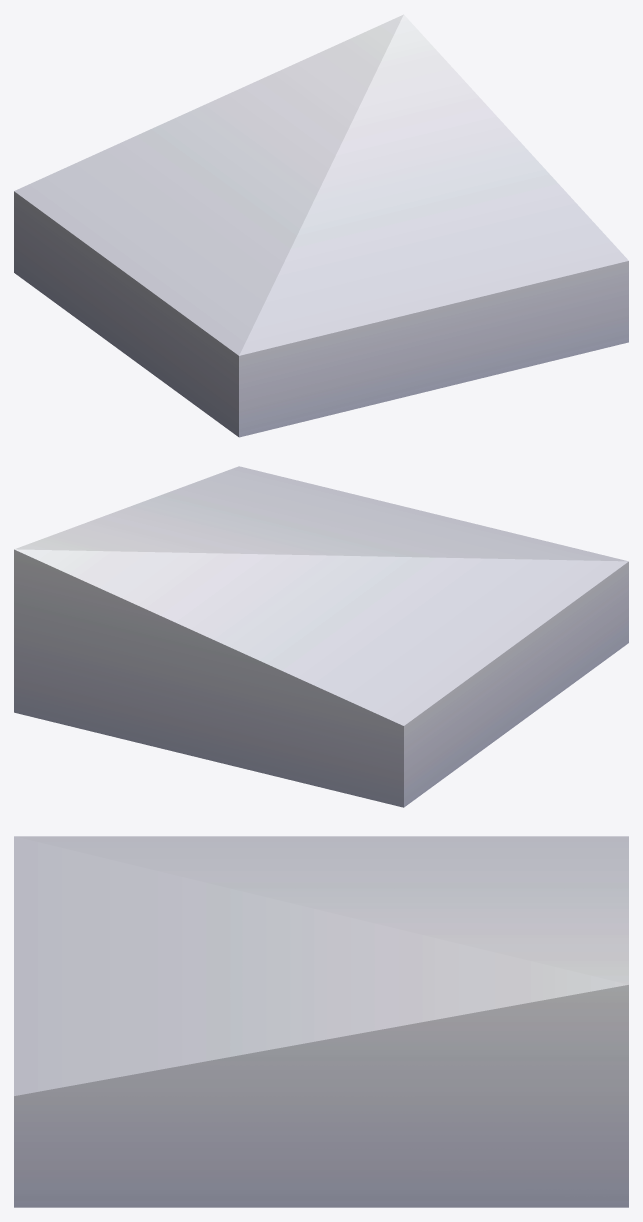
File: kenney-tower-defense-snow-tile-corner-outer.glb
3 views of the same model, one above another, from view 1: azimuth 30°, elevation 25°; view 2: azimuth 150°, elevation 25°; view 3: azimuth 270°, elevation 25° (orthographic). The views are drawn at different scales.
Visible parts, largest first — view 1: snow-tile-corner-outer; view 2: snow-tile-corner-outer; view 3: snow-tile-corner-outer.
Boxes of the visible parts, x1,y1,x2,y2 form: snow-tile-corner-outer: (14, 14, 628, 437); snow-tile-corner-outer: (14, 466, 628, 807); snow-tile-corner-outer: (14, 836, 628, 1207).
Size of the model in its own units: 1 by 0.3999 by 1.
1 material, 1 textured.
